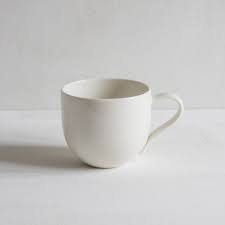mug: (49, 77, 193, 167)
